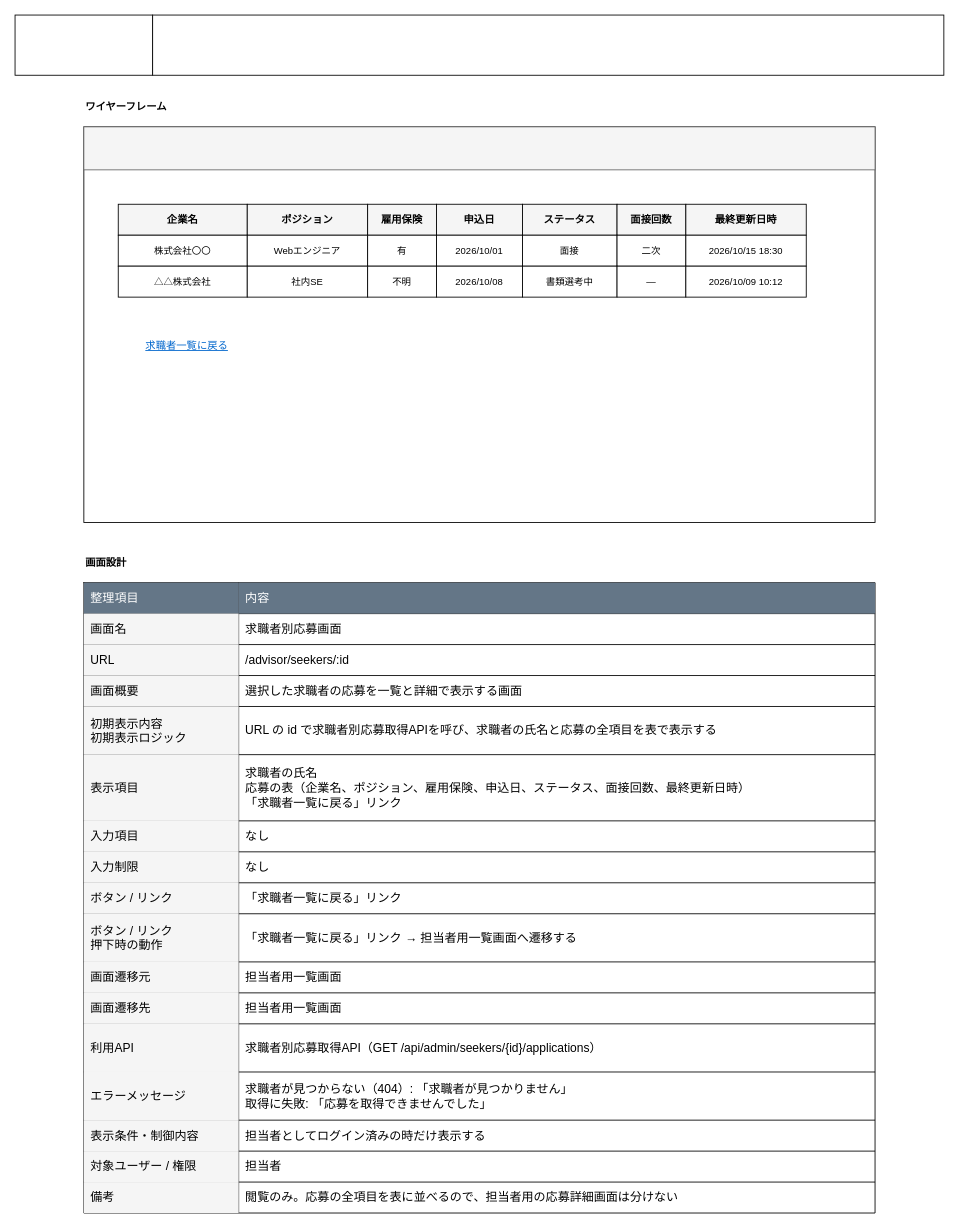
This 959x1228 diagram has some shape labels left out. Here are the shapes that lost their labels. From the top down, the box of each, then its label:
(14, 14, 153, 75): 画面設計書
(152, 14, 944, 75): 画面名、URL、画面概要、初期表示内容、表示項目、入力項目、入力制限、ボタン動作、利用APIなど、画面に関する基本的な仕様を書く
(83, 126, 875, 170): 求職者A さんの応募（担当者）
